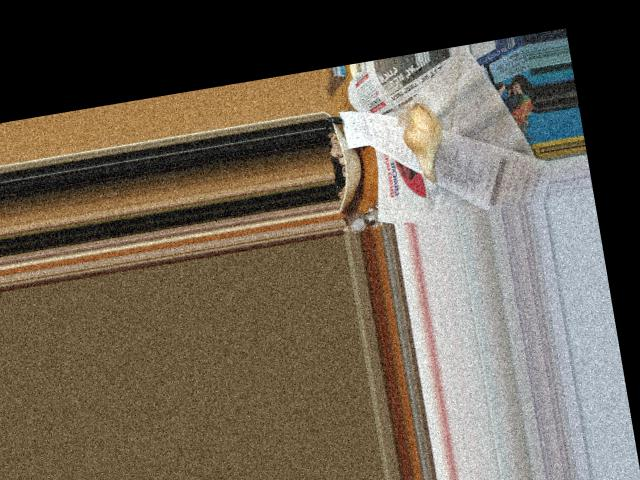onion: (395, 98, 450, 177)
